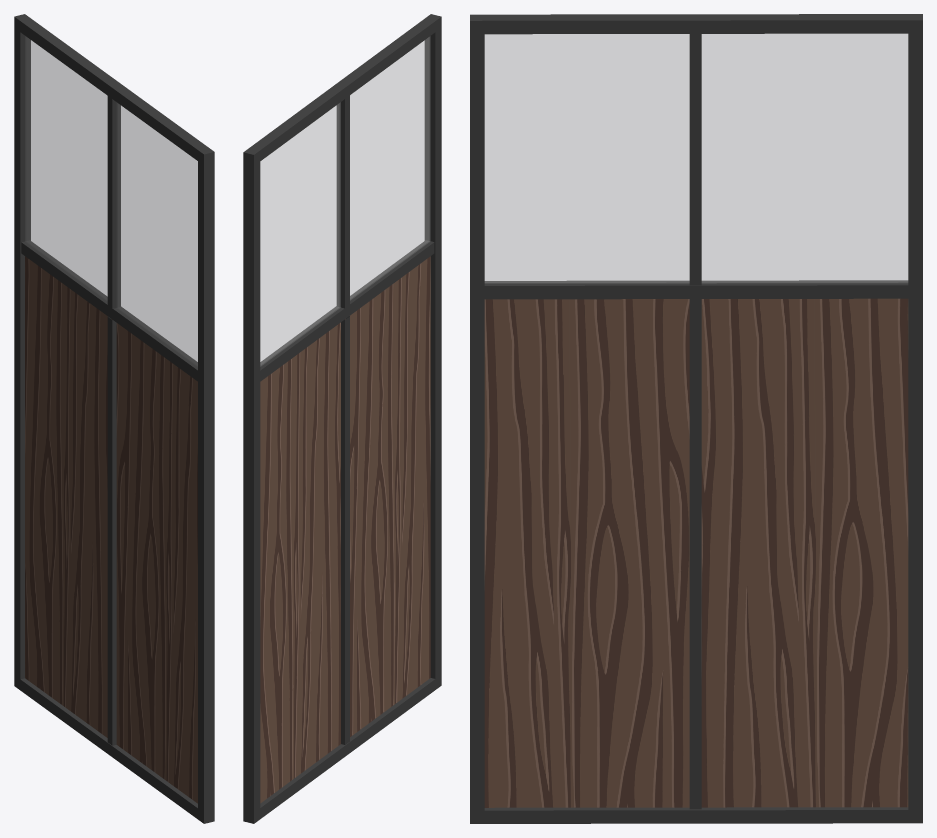
Rendered from Seperator06.fbx.
The picture shows the model from 3 angles, left to right: view 1: azimuth 30°, elevation 25°; view 2: azimuth 150°, elevation 25°; view 3: azimuth 270°, elevation 25°; orthographic projection. The views are drawn at different scales.
Visible parts, largest first — view 1: Seperator06; view 2: Seperator06; view 3: Seperator06.
Boxes of the visible parts, box(x1,y1,x2,y2) form: Seperator06: box(14, 14, 214, 823); Seperator06: box(243, 14, 441, 823); Seperator06: box(470, 14, 922, 823).
Size of the model in its own units: 0.055 by 1.53 by 3.
